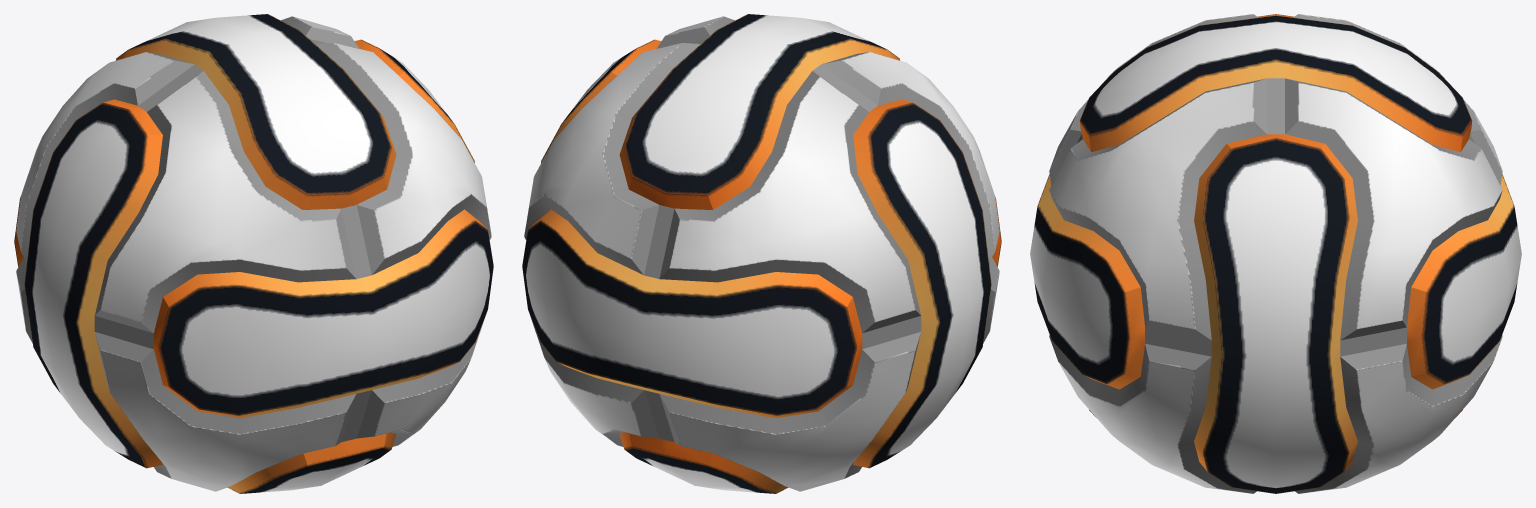
File: football2.glb
3 renders of one model, left to right at view 1: azimuth 30°, elevation 25°; view 2: azimuth 150°, elevation 25°; view 3: azimuth 270°, elevation 25°, orthographic.
Parts seen in each view (by area): view 1: SoccerV4; view 2: SoccerV4; view 3: SoccerV4.
Part boxes in pixels (x1,y1,x2,y2): SoccerV4: (14,14,493,493); SoccerV4: (522,14,1001,493); SoccerV4: (1030,14,1521,493).
Bounding box in the file's own units: 1.79 × 1.79 × 1.79.
1 material, 1 textured.
